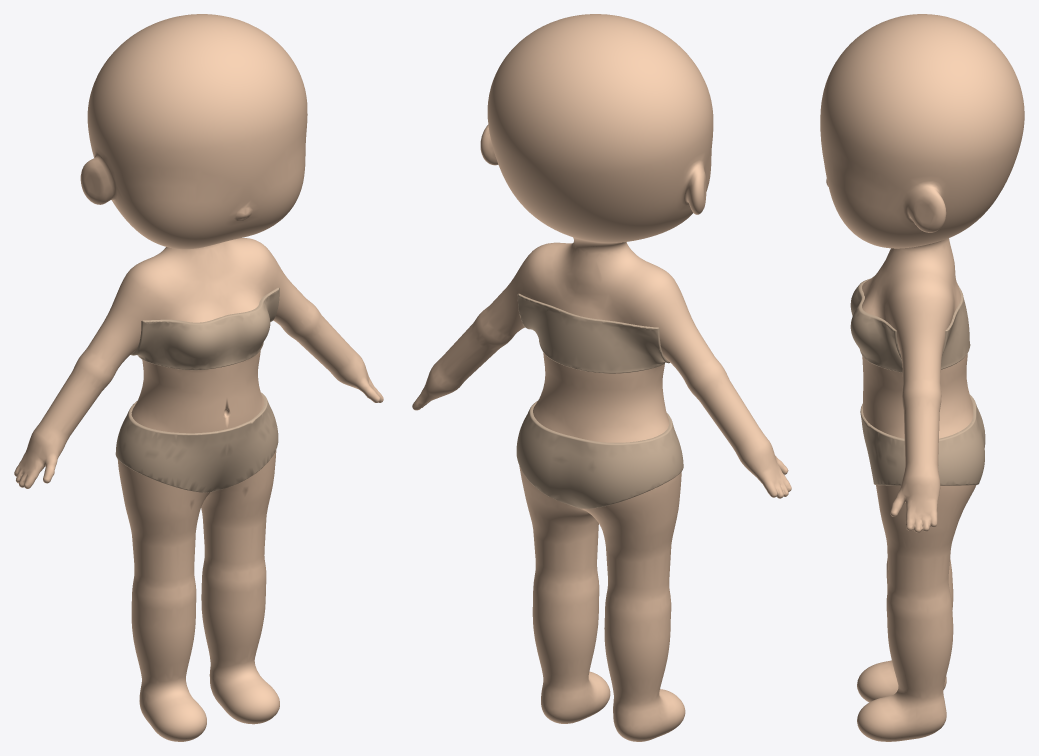
The model's file is female_medium.fbx.
3 renders of one model, left to right at view 1: azimuth 30°, elevation 25°; view 2: azimuth 150°, elevation 25°; view 3: azimuth 270°, elevation 25°, orthographic. The views are drawn at different scales.
Visible parts, largest first — view 1: Body, Pants, Bandeau; view 2: Body, Pants, Bandeau; view 3: Body, Pants, Bandeau.
Boxes of the visible parts, <box> form: Body: <box>14,14,383,741</box>; Pants: <box>115,392,278,492</box>; Bandeau: <box>131,287,279,370</box>; Body: <box>412,14,791,741</box>; Pants: <box>516,401,683,508</box>; Bandeau: <box>517,293,669,373</box>; Body: <box>820,14,1024,741</box>; Pants: <box>860,394,985,485</box>; Bandeau: <box>850,278,970,372</box>.
Size of the model in its own units: 86.57 by 158 by 42.24.
